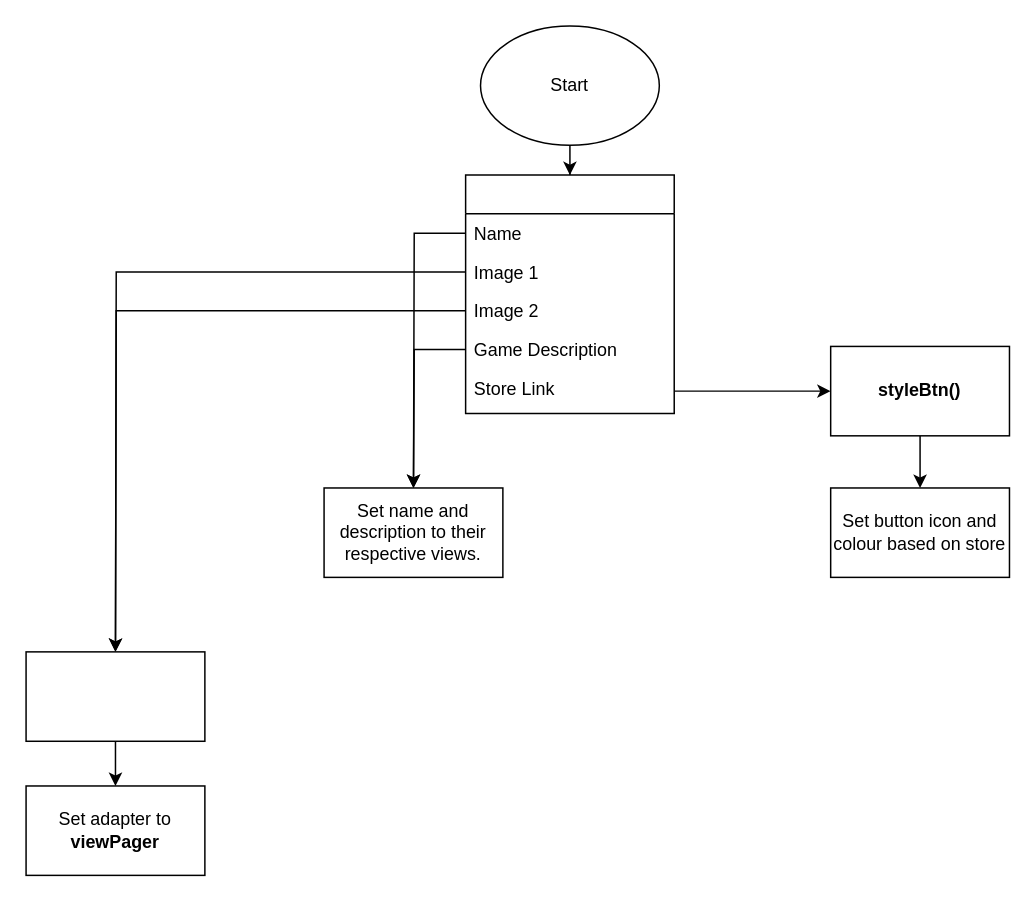
Some shapes in this 1036 by 901 pixel diagram are drawn without their labels. The shapes that lost their labels are listed below. From the top down, each one's box as (x1, y1, x2, y2) in pixels, then its label:
(464, 174, 674, 413): Intent Extras
(25, 650, 205, 741): ImageAdapter.java
